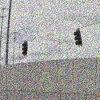traffic lights: (74, 29, 82, 44), (22, 41, 28, 55)
